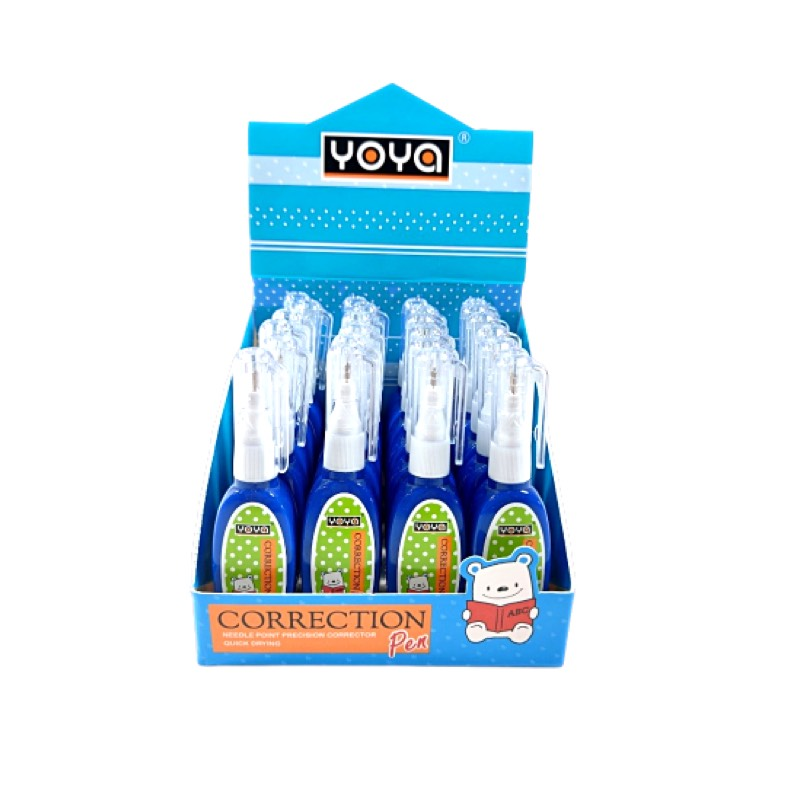Correction_fluid: (210, 343, 297, 592), (300, 344, 388, 588), (474, 349, 560, 579), (389, 357, 463, 598)
